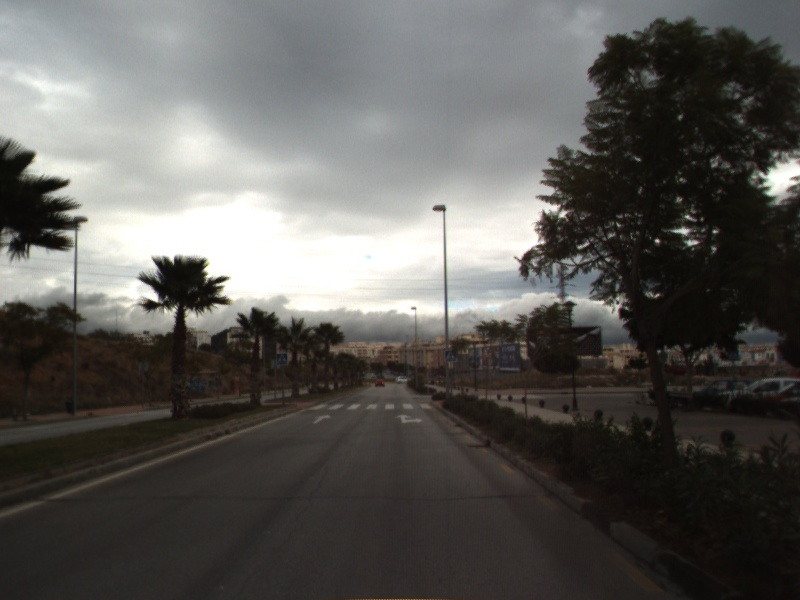STRAIGHT: (311, 412, 333, 426)
STRAIGHT_RIGHT: (393, 412, 425, 426)
